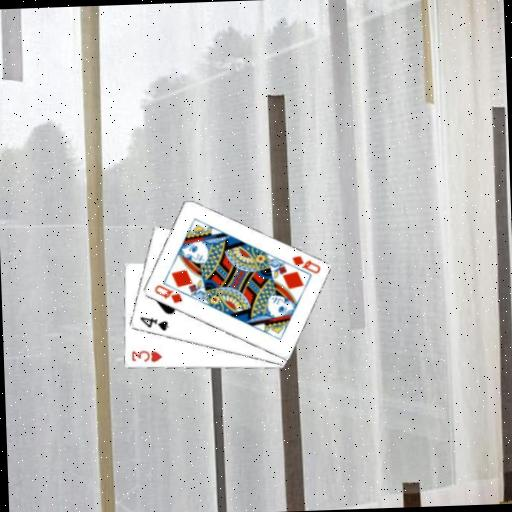3H: (128, 346, 164, 364)
4S: (137, 313, 170, 333)
QD: (150, 281, 183, 306), (289, 251, 322, 276)
